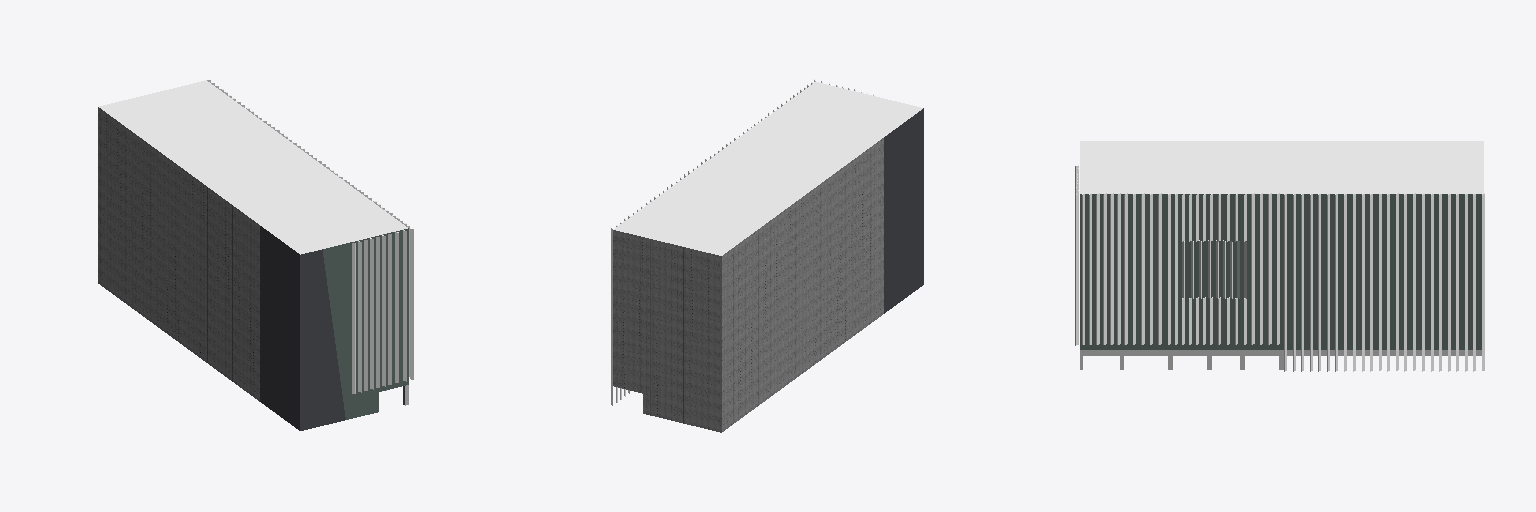
The picture shows the model from 3 angles: view 1: azimuth 30°, elevation 25°; view 2: azimuth 150°, elevation 25°; view 3: azimuth 270°, elevation 25°; orthographic projection.
Parts seen in each view (by area): view 1: Mesh1 Model, Mesh63 Model, Mesh64 Model, Mesh65 Model, Mesh67 Model, Mesh68 Model, Mesh69 Model, Mesh61 Model, Mesh62 Model, Mesh66 Model, Mesh70 Model; view 2: Mesh1 Model; view 3: Mesh1 Model, Mesh69 Model, Mesh71 Model, Mesh74 Model, Mesh4 Model, Mesh5 Model, Mesh6 Model, Mesh7 Model, Mesh8 Model, Mesh10 Model, Mesh12 Model, Mesh13 Model (+23 smaller).
Part boxes in pixels (x1,y1,x2,y2): Mesh1 Model: (98,80,408,430); Mesh63 Model: (352,243,355,393); Mesh64 Model: (364,240,367,390); Mesh65 Model: (376,237,379,387); Mesh67 Model: (388,234,391,384); Mesh68 Model: (395,232,398,382); Mesh69 Model: (410,228,413,379); Mesh61 Model: (370,238,373,389); Mesh62 Model: (358,241,361,392); Mesh66 Model: (382,235,385,386); Mesh70 Model: (403,230,406,381); Mesh1 Model: (613,82,923,432); Mesh1 Model: (1080,141,1483,369); Mesh69 Model: (1075,194,1078,345); Mesh71 Model: (1251,193,1254,344); Mesh74 Model: (1268,193,1271,344); Mesh4 Model: (1096,193,1099,344); Mesh5 Model: (1103,193,1106,344); Mesh6 Model: (1110,193,1113,344); Mesh7 Model: (1117,193,1120,344); Mesh8 Model: (1124,193,1127,344); Mesh10 Model: (1141,193,1144,344); Mesh12 Model: (1158,193,1161,344); Mesh13 Model: (1431,193,1433,371).
Bounding box in the file's own units: 2.2 × 3.34 × 6.99.
Materials: 6 (1 with a texture image).